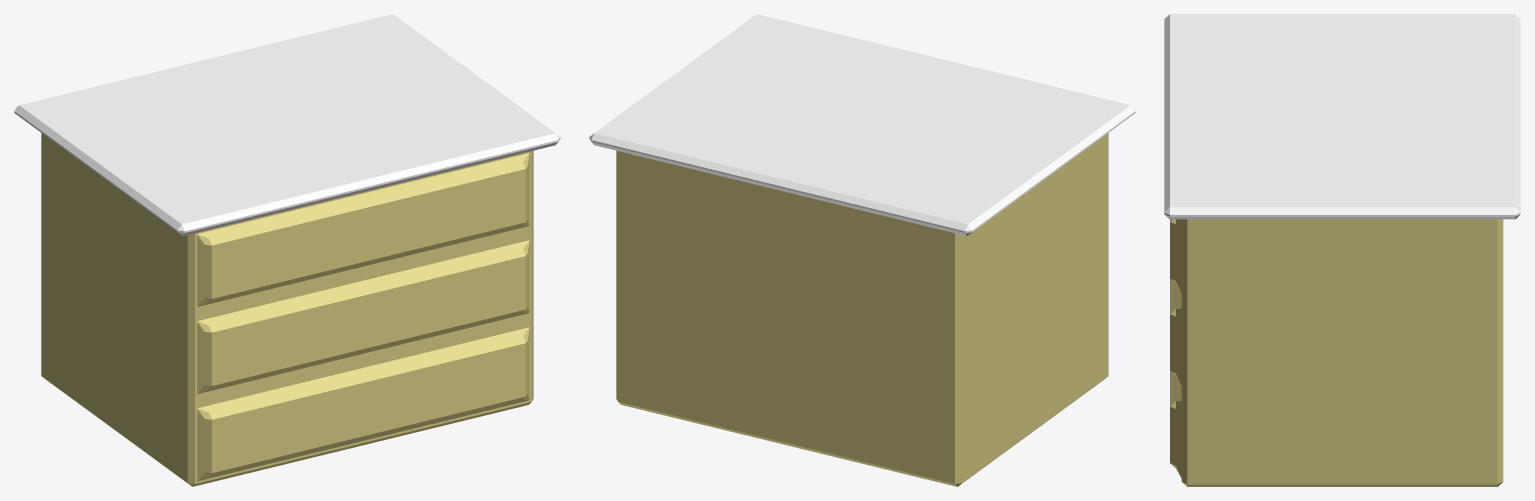
Rendered from BedRoom_Side_table.fbx.
The picture shows the model from 3 angles, left to right: view 1: azimuth 30°, elevation 25°; view 2: azimuth 150°, elevation 25°; view 3: azimuth 270°, elevation 25°; orthographic projection. The views are drawn at different scales.
Parts seen in each view (by area): view 1: Side table; view 2: Side table; view 3: Side table.
Boxes of the visible parts, x1=… form: Side table: x1=14, y1=14, x2=560, y2=486; Side table: x1=589, y1=14, x2=1135, y2=486; Side table: x1=1164, y1=14, x2=1520, y2=486.
Bounding box in the file's own units: 44.06 × 30 × 33.5.
